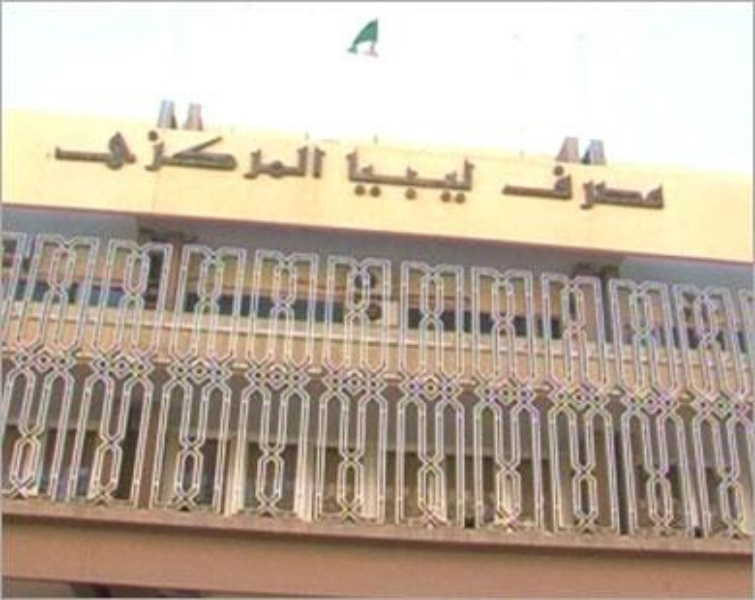text: (353, 146, 368, 208), (369, 146, 384, 208), (385, 146, 400, 208), (401, 146, 416, 208), (417, 146, 432, 208), (433, 146, 448, 208), (449, 146, 464, 208), (465, 146, 479, 208), (65, 124, 80, 181), (81, 124, 96, 181), (97, 124, 112, 181), (113, 124, 128, 181), (129, 124, 144, 181), (145, 124, 160, 181), (161, 124, 176, 181), (177, 124, 192, 181), (193, 124, 208, 181), (209, 124, 224, 181), (225, 124, 240, 181), (241, 124, 256, 181), (257, 124, 272, 181), (273, 124, 288, 181), (289, 124, 304, 181), (305, 124, 320, 181), (513, 157, 528, 213), (529, 157, 544, 213), (545, 157, 560, 213), (561, 157, 576, 213), (577, 157, 592, 213), (593, 157, 608, 213), (609, 157, 624, 213), (625, 157, 640, 213), (641, 157, 656, 213), (341, 146, 352, 208), (500, 157, 512, 213), (657, 157, 666, 213), (57, 124, 64, 181), (321, 124, 326, 181)
